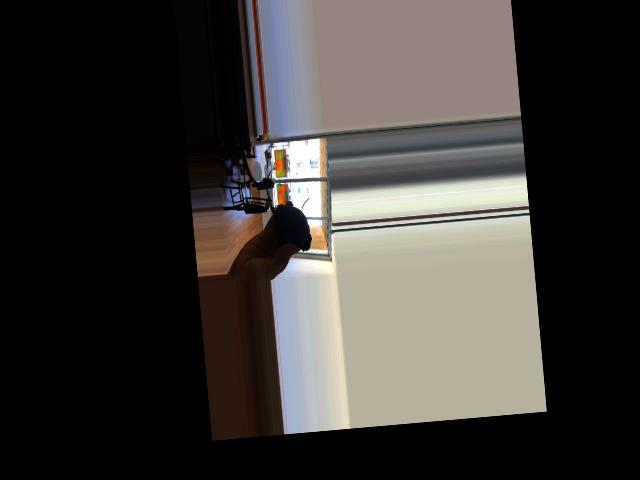beet: (264, 167, 312, 253)
